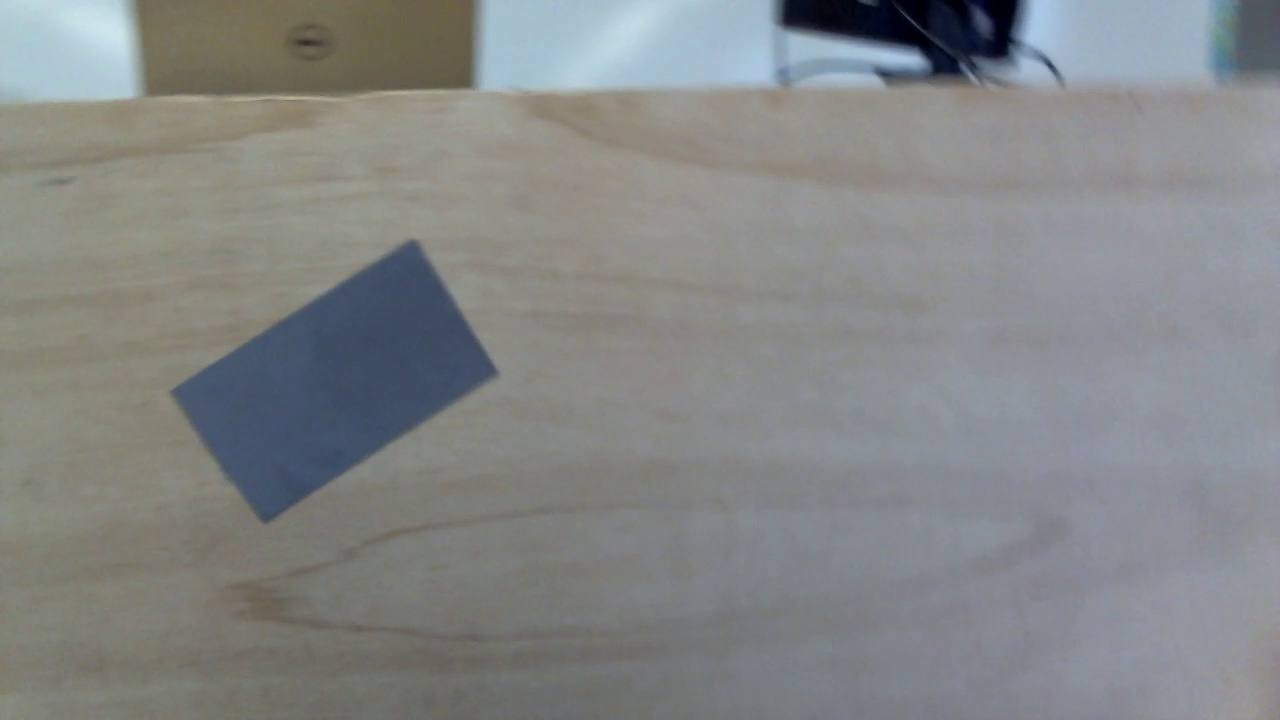Tape: (170, 239, 501, 528)
